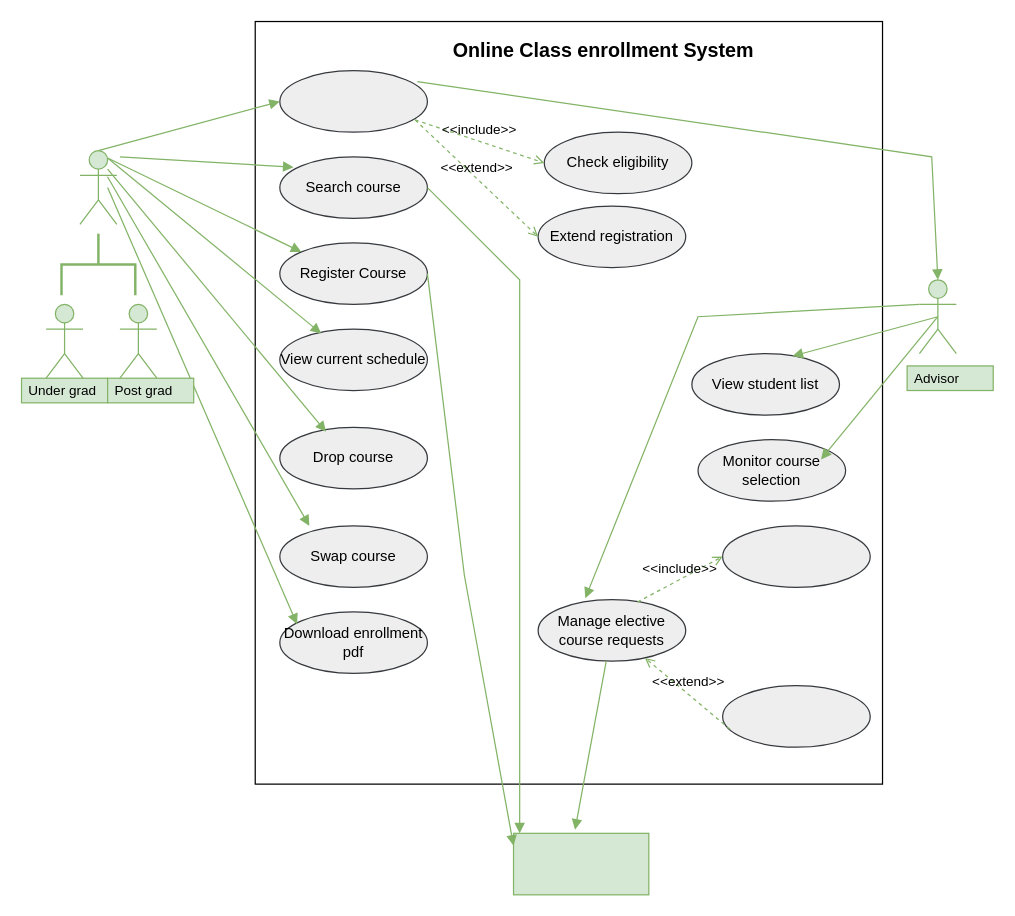
Image size: 1015x916. Some labels were removed from this diagram. Here are the shapes that lost their labels. From the top down, the box of each, then its label:
(279, 69, 427, 132): Login
(721, 525, 870, 587): Check credit eligibility
(721, 684, 870, 747): Initiate meeting for low GPA
(512, 832, 649, 895): Enrollement Database
